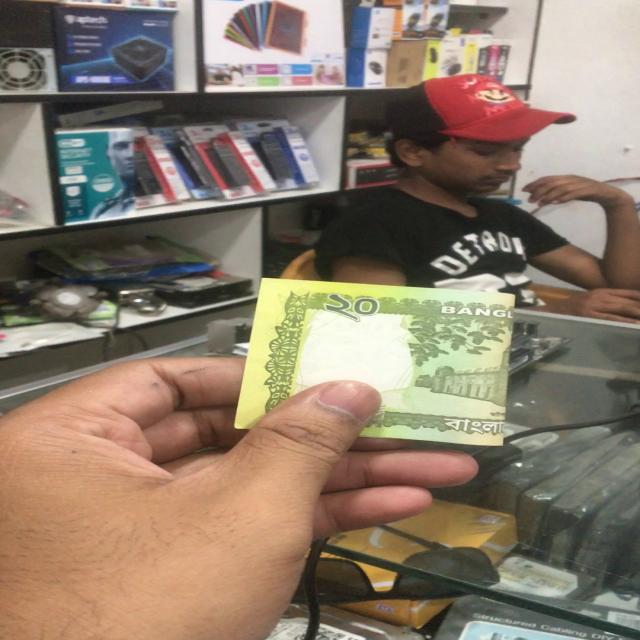Taka: (245, 275, 502, 447)
